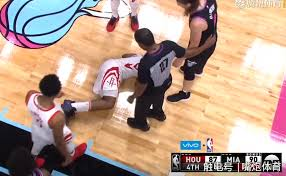fall: (59, 46, 157, 115)
